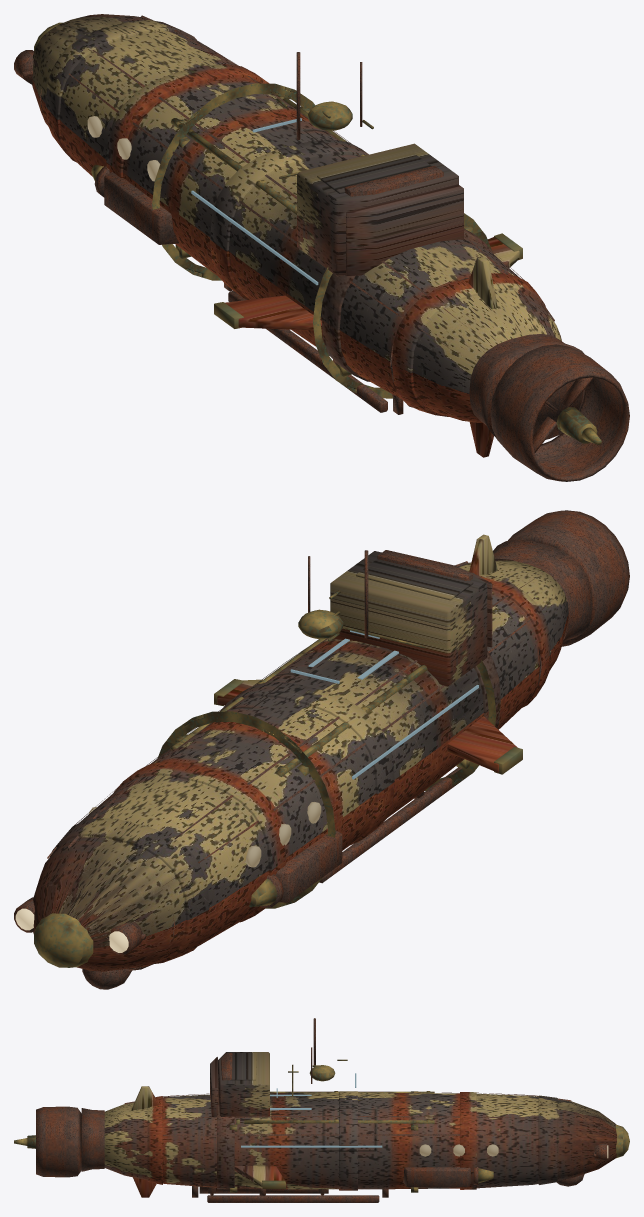
Rendered from submersible_stage1.glb.
The picture shows the model from 3 angles, top to bottom: view 1: azimuth 30°, elevation 25°; view 2: azimuth 150°, elevation 25°; view 3: azimuth 270°, elevation 25°; orthographic projection. The views are drawn at different scales.
Visible parts, largest first — view 1: Hull, PropShroud, SailTop, Sail, PlateBand2, PlateBand4, SternFairing, PlateBand1, PlateBand0, CoilF, PowerPodL, WingL (+12 smaller); view 2: Hull, Sail, PropShroud, PlateBand0, PlateBand2, SternFairing, PlateBand1, CoilF, BowCap, PowerPodL, SailPanel1, WingL (+12 smaller); view 3: Hull, PropShroud, Sail, PlateBand2, PlateBand0, SternFairing, PowerPodR, Skid1, PlateBand1, PlateBand3, PlateBand4, SailPanel1 (+12 smaller).
Part boxes in pixels (<box>): Hull: <box>32,14,561,422</box>; PropShroud: <box>490,344,629,481</box>; SailTop: <box>346,184,463,276</box>; Sail: <box>297,143,458,276</box>; PlateBand2: <box>210,139,368,299</box>; PlateBand4: <box>392,273,547,416</box>; SternFairing: <box>469,334,584,439</box>; PlateBand1: <box>106,64,269,177</box>; PlateBand0: <box>45,20,196,162</box>; CoilF: <box>152,83,315,280</box>; PowerPodL: <box>104,172,178,244</box>; WingL: <box>225,295,322,330</box>; Hull: <box>33,560,568,971</box>; Sail: <box>330,551,487,686</box>; PropShroud: <box>508,510,629,646</box>; PlateBand0: <box>50,817,209,963</box>; PlateBand2: <box>220,681,394,845</box>; SternFairing: <box>493,539,592,641</box>; PlateBand1: <box>114,761,286,922</box>; CoilF: <box>157,711,335,908</box>; BowCap: <box>34,913,93,967</box>; PowerPodL: <box>276,830,342,902</box>; SailPanel1: <box>356,559,473,600</box>; WingL: <box>447,716,517,772</box>; Hull: <box>104,1092,616,1189</box>; PropShroud: <box>36,1106,81,1177</box>; Sail: <box>218,1052,269,1117</box>; PlateBand2: <box>339,1091,357,1190</box>; PlateBand0: <box>538,1095,557,1184</box>; SternFairing: <box>81,1108,104,1171</box>; PowerPodR: <box>403,1167,471,1187</box>; Skid1: <box>207,1195,379,1202</box>; PlateBand1: <box>460,1092,476,1189</box>; PlateBand3: <box>217,1097,234,1189</box>; PlateBand4: <box>147,1096,162,1184</box>; SailPanel1: <box>230,1053,256,1080</box>.
Bounding box in the file's own units: 6.12 × 6.08 × 20.07.
Materials: 12 (9 with a texture image).
